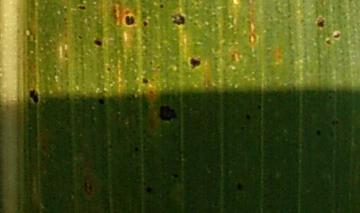tarspot: (155, 101, 179, 123), (170, 10, 188, 30), (24, 85, 41, 105), (187, 54, 202, 71), (141, 181, 155, 197), (122, 13, 138, 27), (316, 14, 326, 33), (92, 37, 105, 50), (241, 109, 254, 122), (233, 180, 245, 193), (170, 168, 182, 181), (329, 117, 341, 129), (333, 29, 343, 43), (139, 75, 150, 87), (322, 37, 332, 49), (75, 4, 90, 12), (96, 96, 107, 106), (105, 63, 114, 75), (253, 102, 263, 112), (130, 145, 141, 154), (314, 126, 323, 137), (140, 20, 151, 29), (157, 2, 166, 12)
